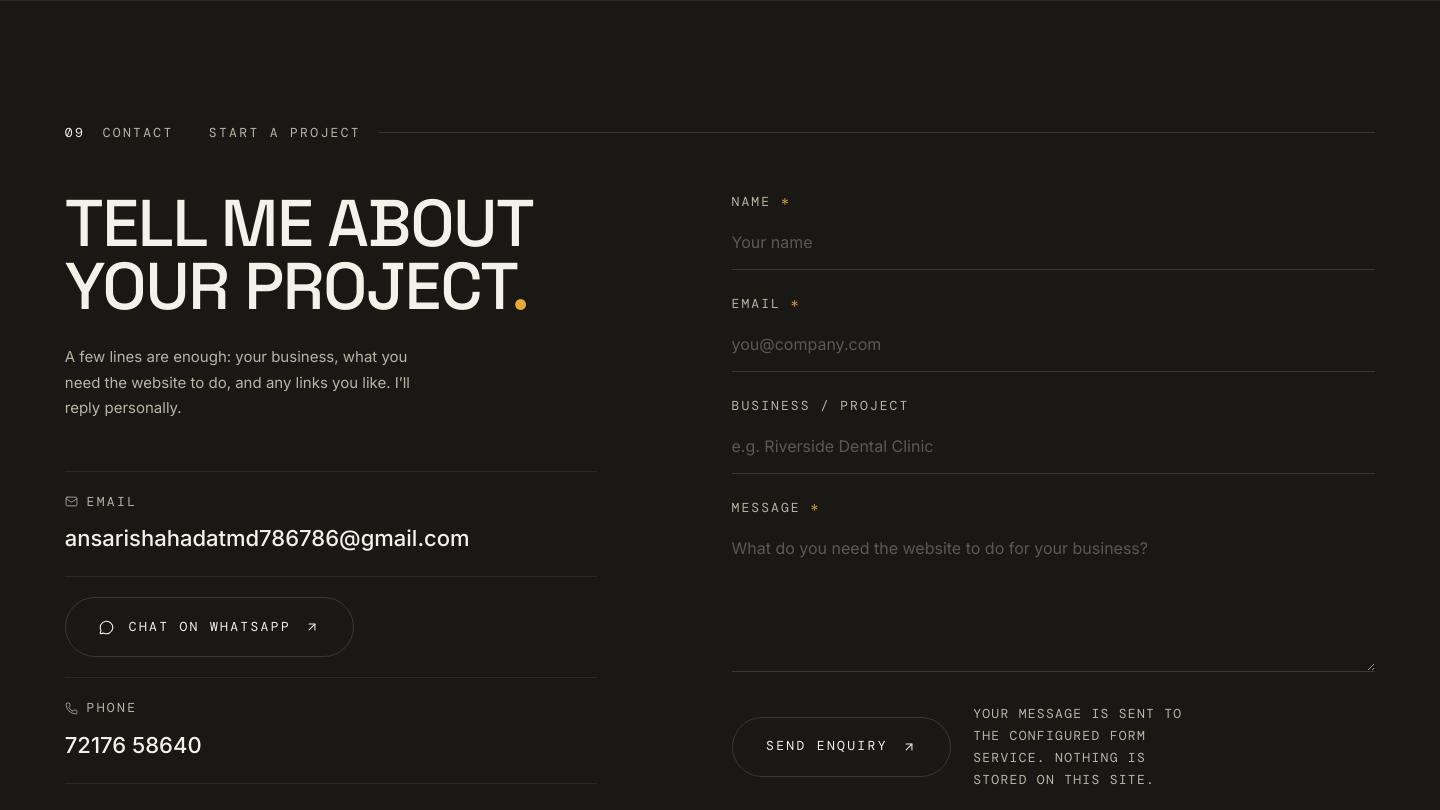
it: Contact form › posts the Web3Forms access key in the JSON body without authorization headers
In the field labelled "Name *": (1053, 247) [732,224,1375,270], type "A. Person"
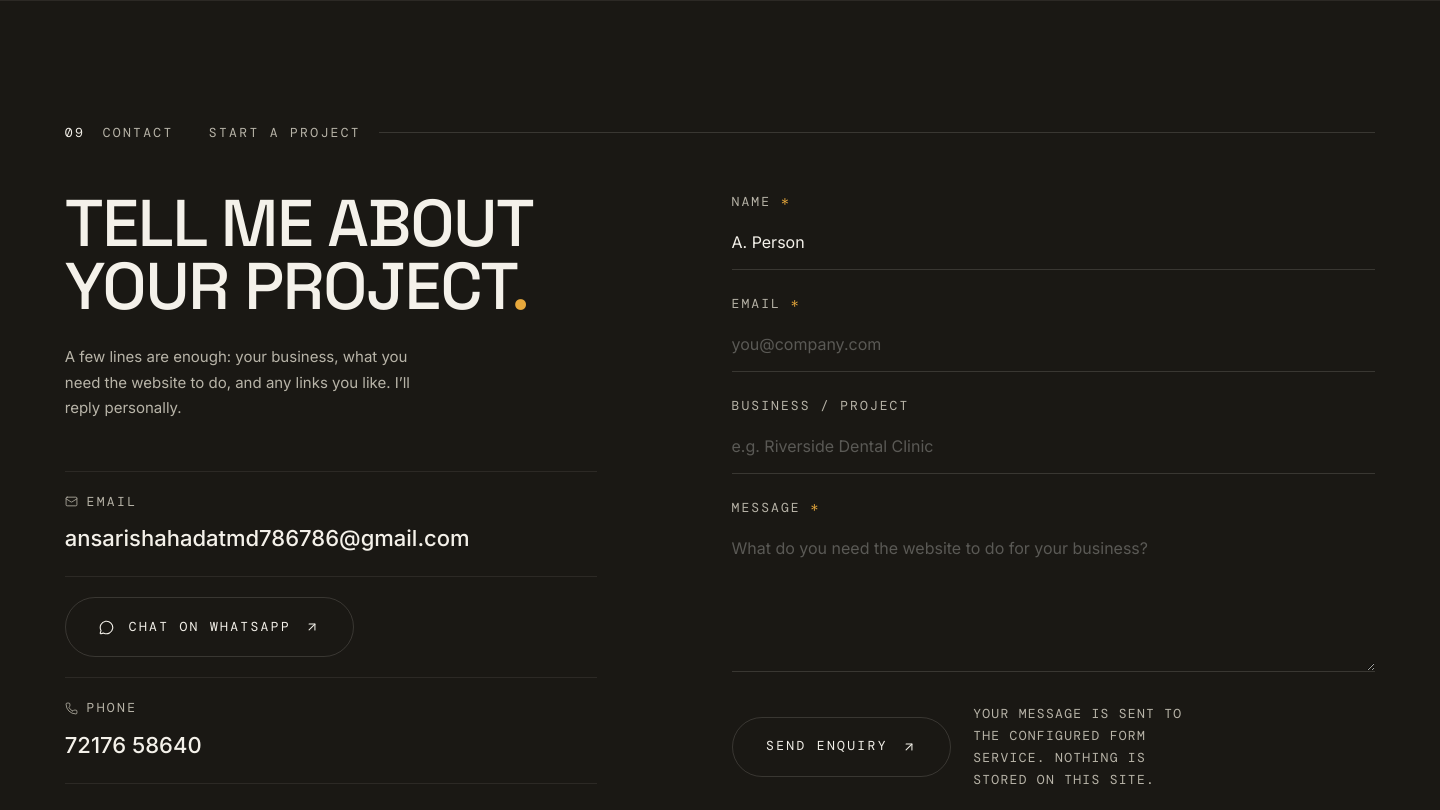
In the field labelled "Email *": (1053, 349) [732,326,1375,372], type "person@example.com"
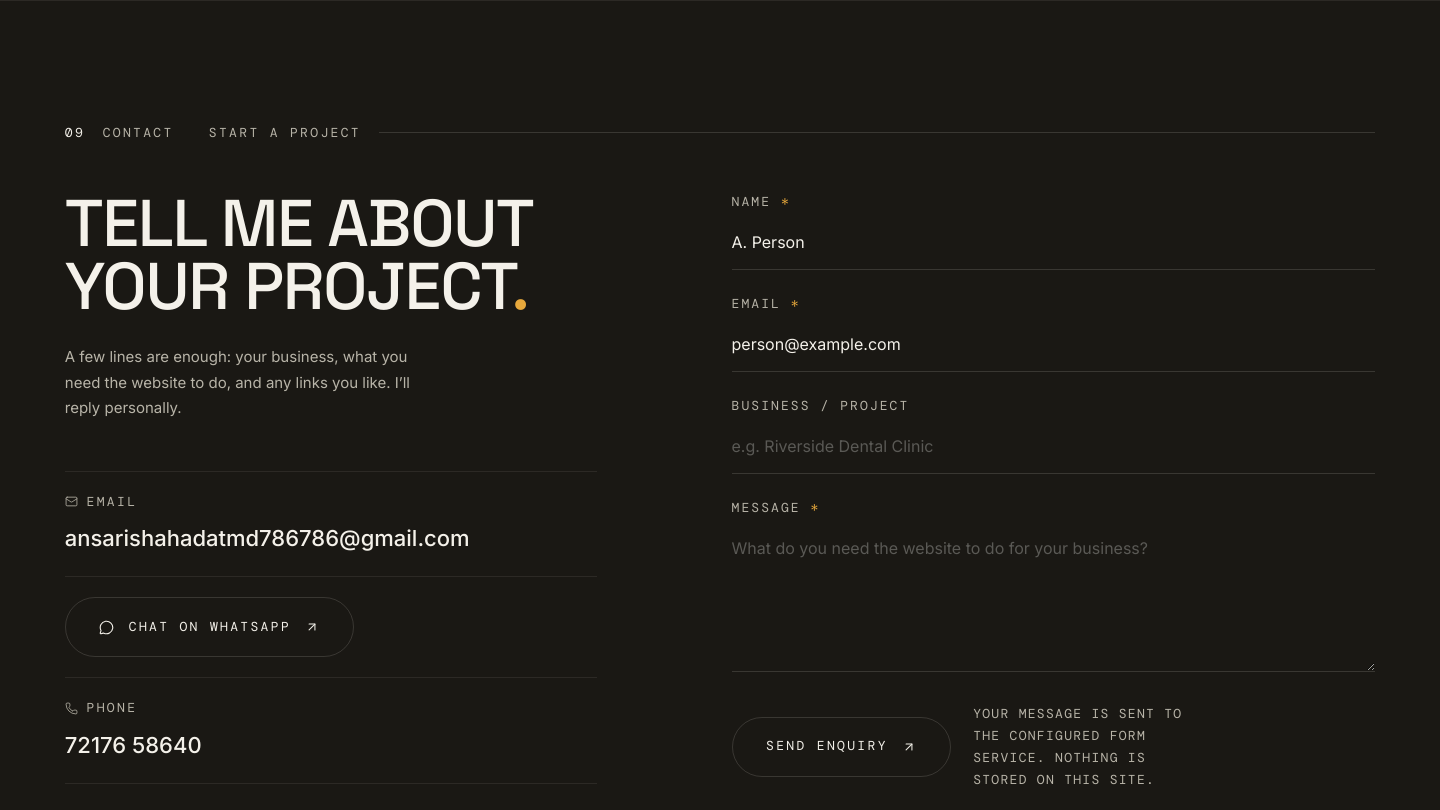
In the field labelled "Business / Project": (1053, 451) [732,428,1375,474], type "Portfolio project"
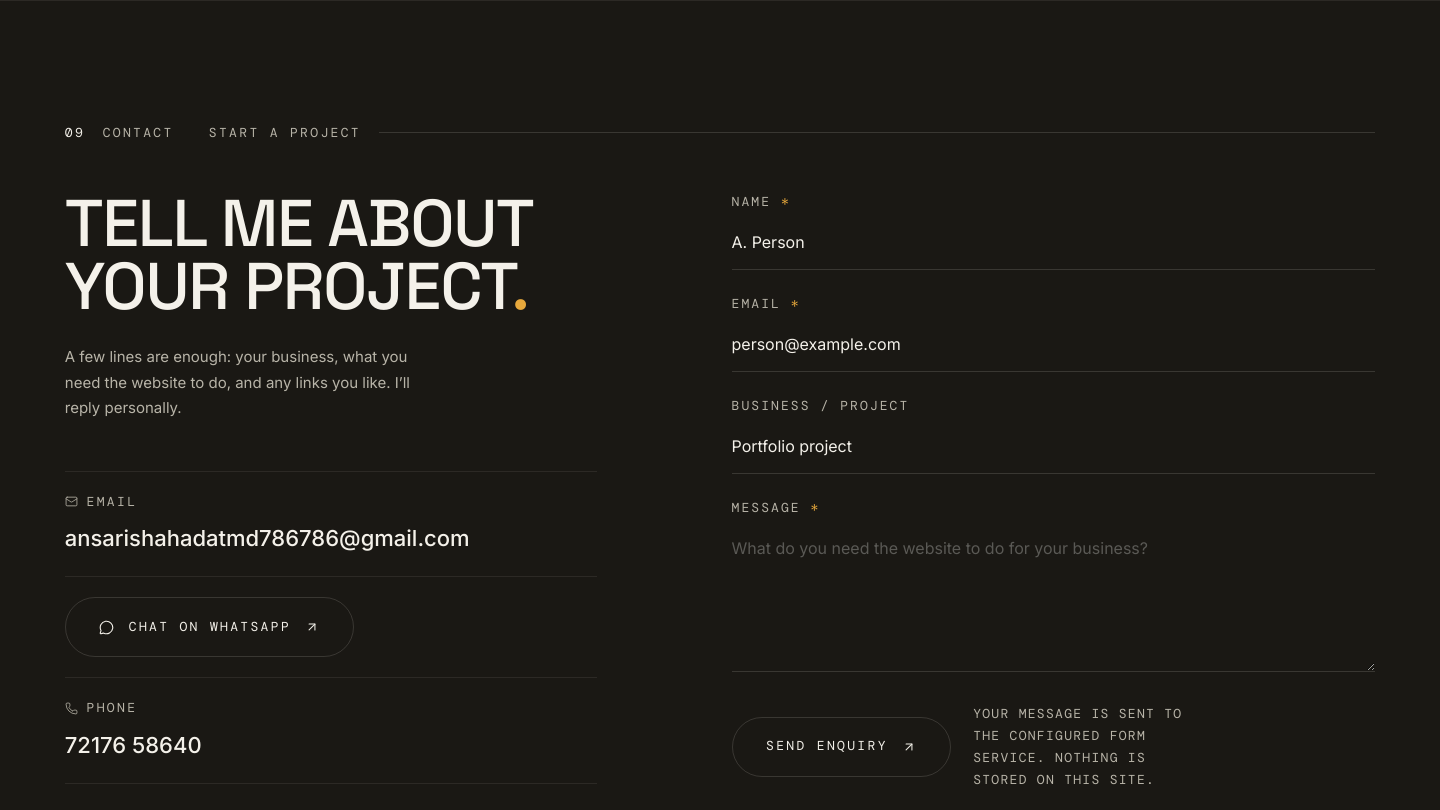
In the text box labelled "Message *": (1053, 601) [732,530,1375,672], type "I need a business website."
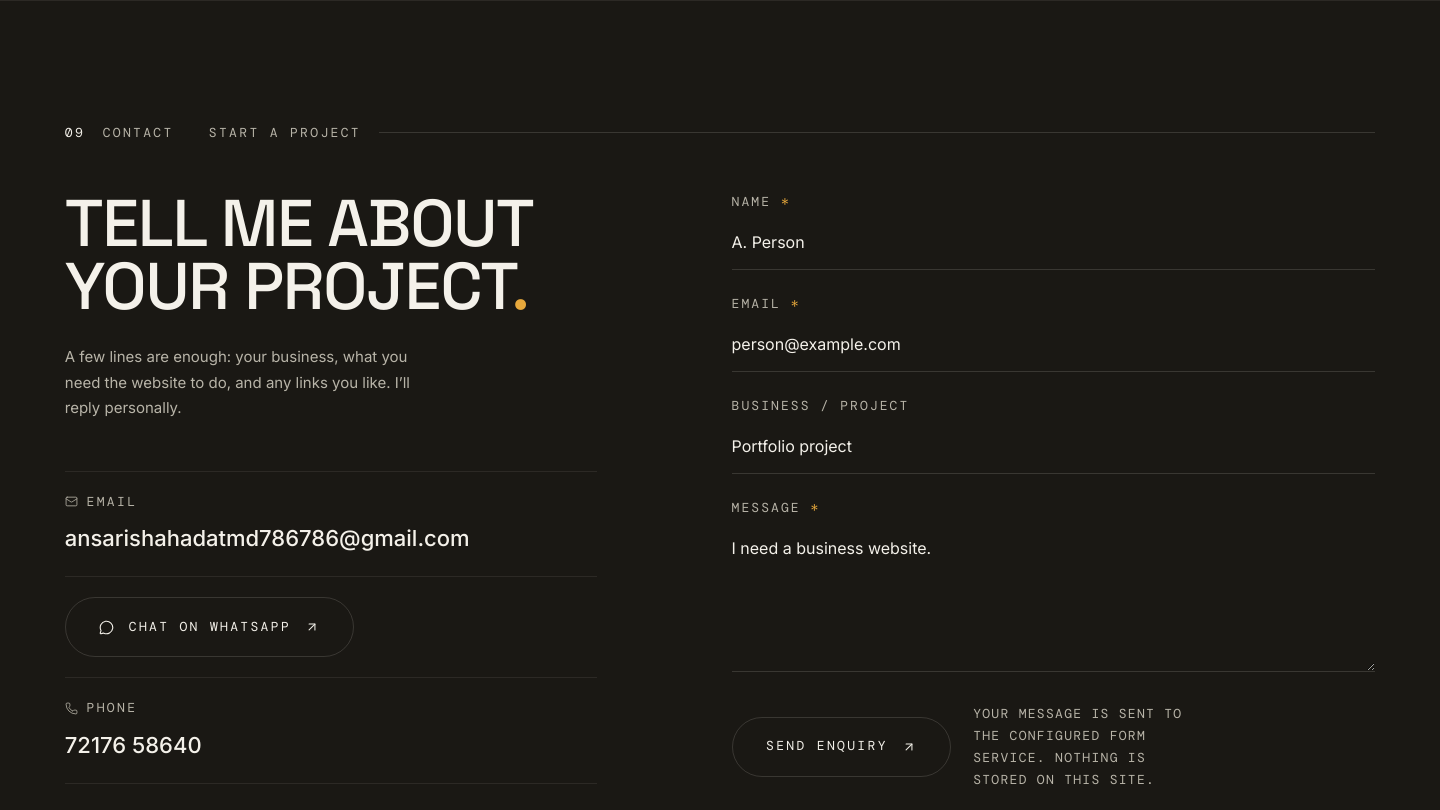
Submit the form named "Project enquiry form", box [732,192,1375,791]
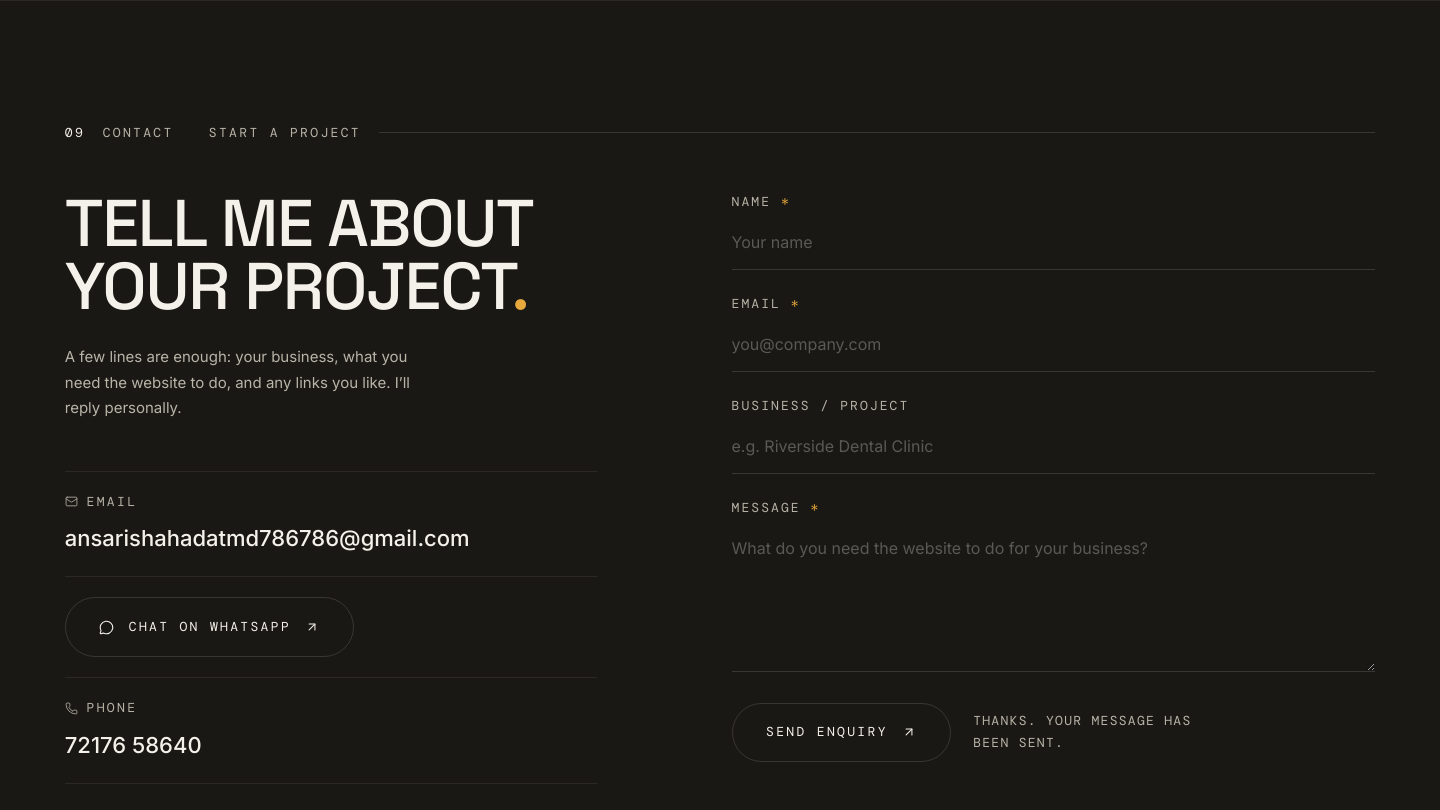
Check: the text "Thanks. Your message has been sent." is shown, box [973,710,1207,754]
